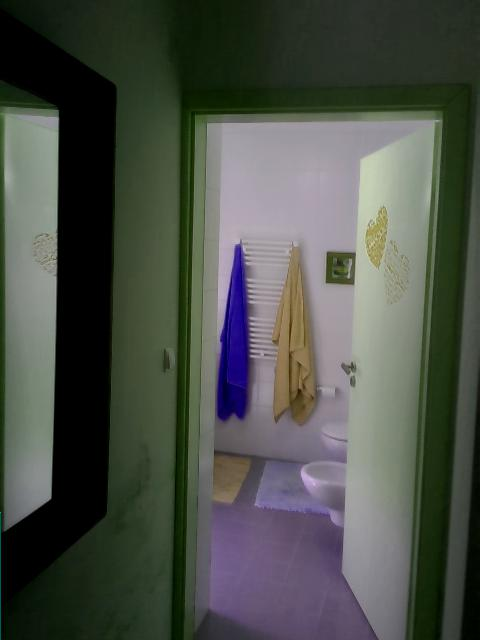open_door: (172, 84, 472, 639)
